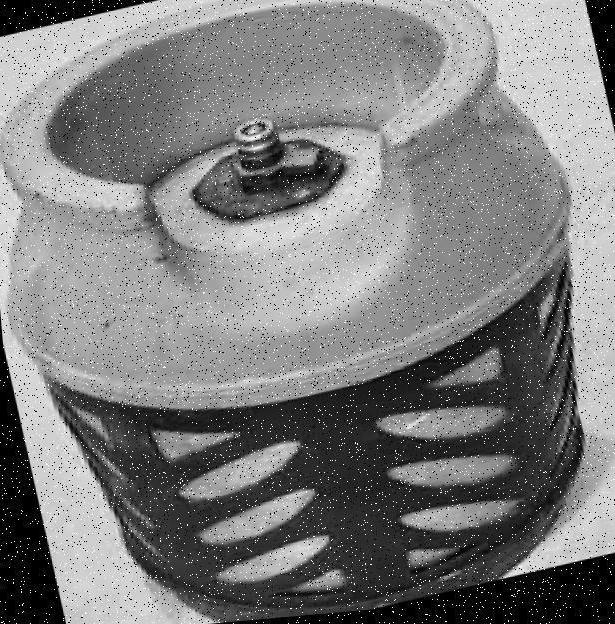cylinder: (1, 0, 615, 624)
